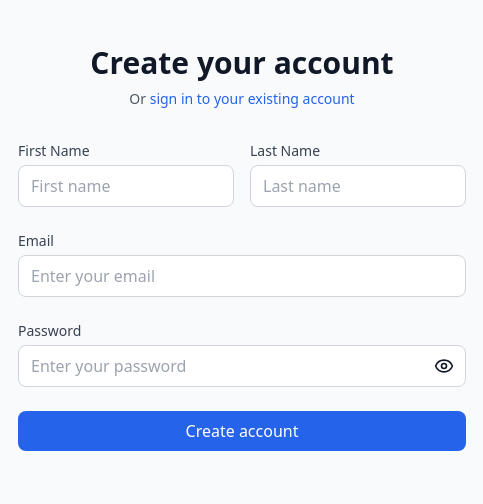
Test case: Register Component › shows validation errors for empty fields
Step 1. Click the button "Create account" → (242, 431), box [18,411,466,451]
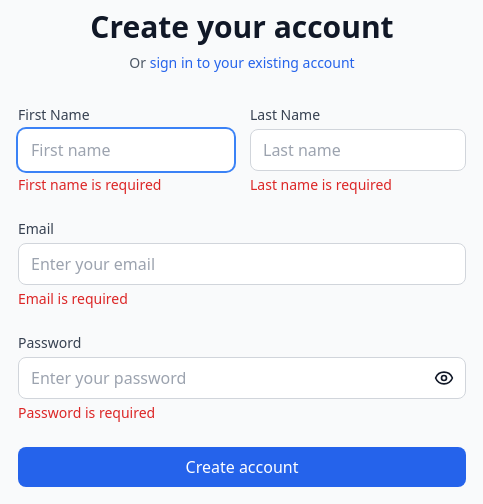
Check: the text "Email is required" is shown, box [18,289,128,308]
Check: the text "Password is required" is shown, box [18,403,155,422]
